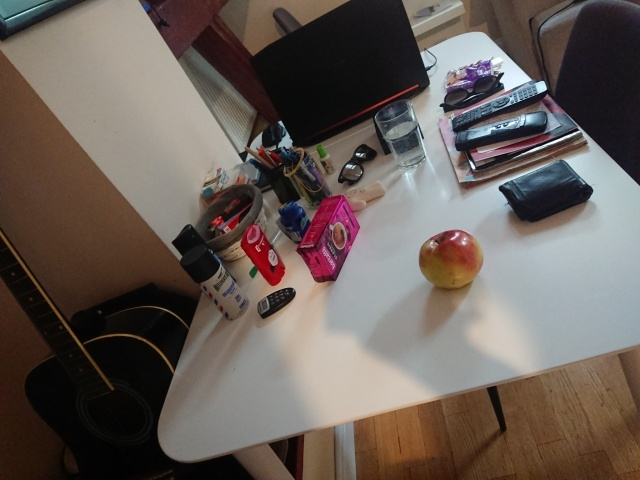Barcaffe Classic Original 225g: (293, 193, 363, 285)
